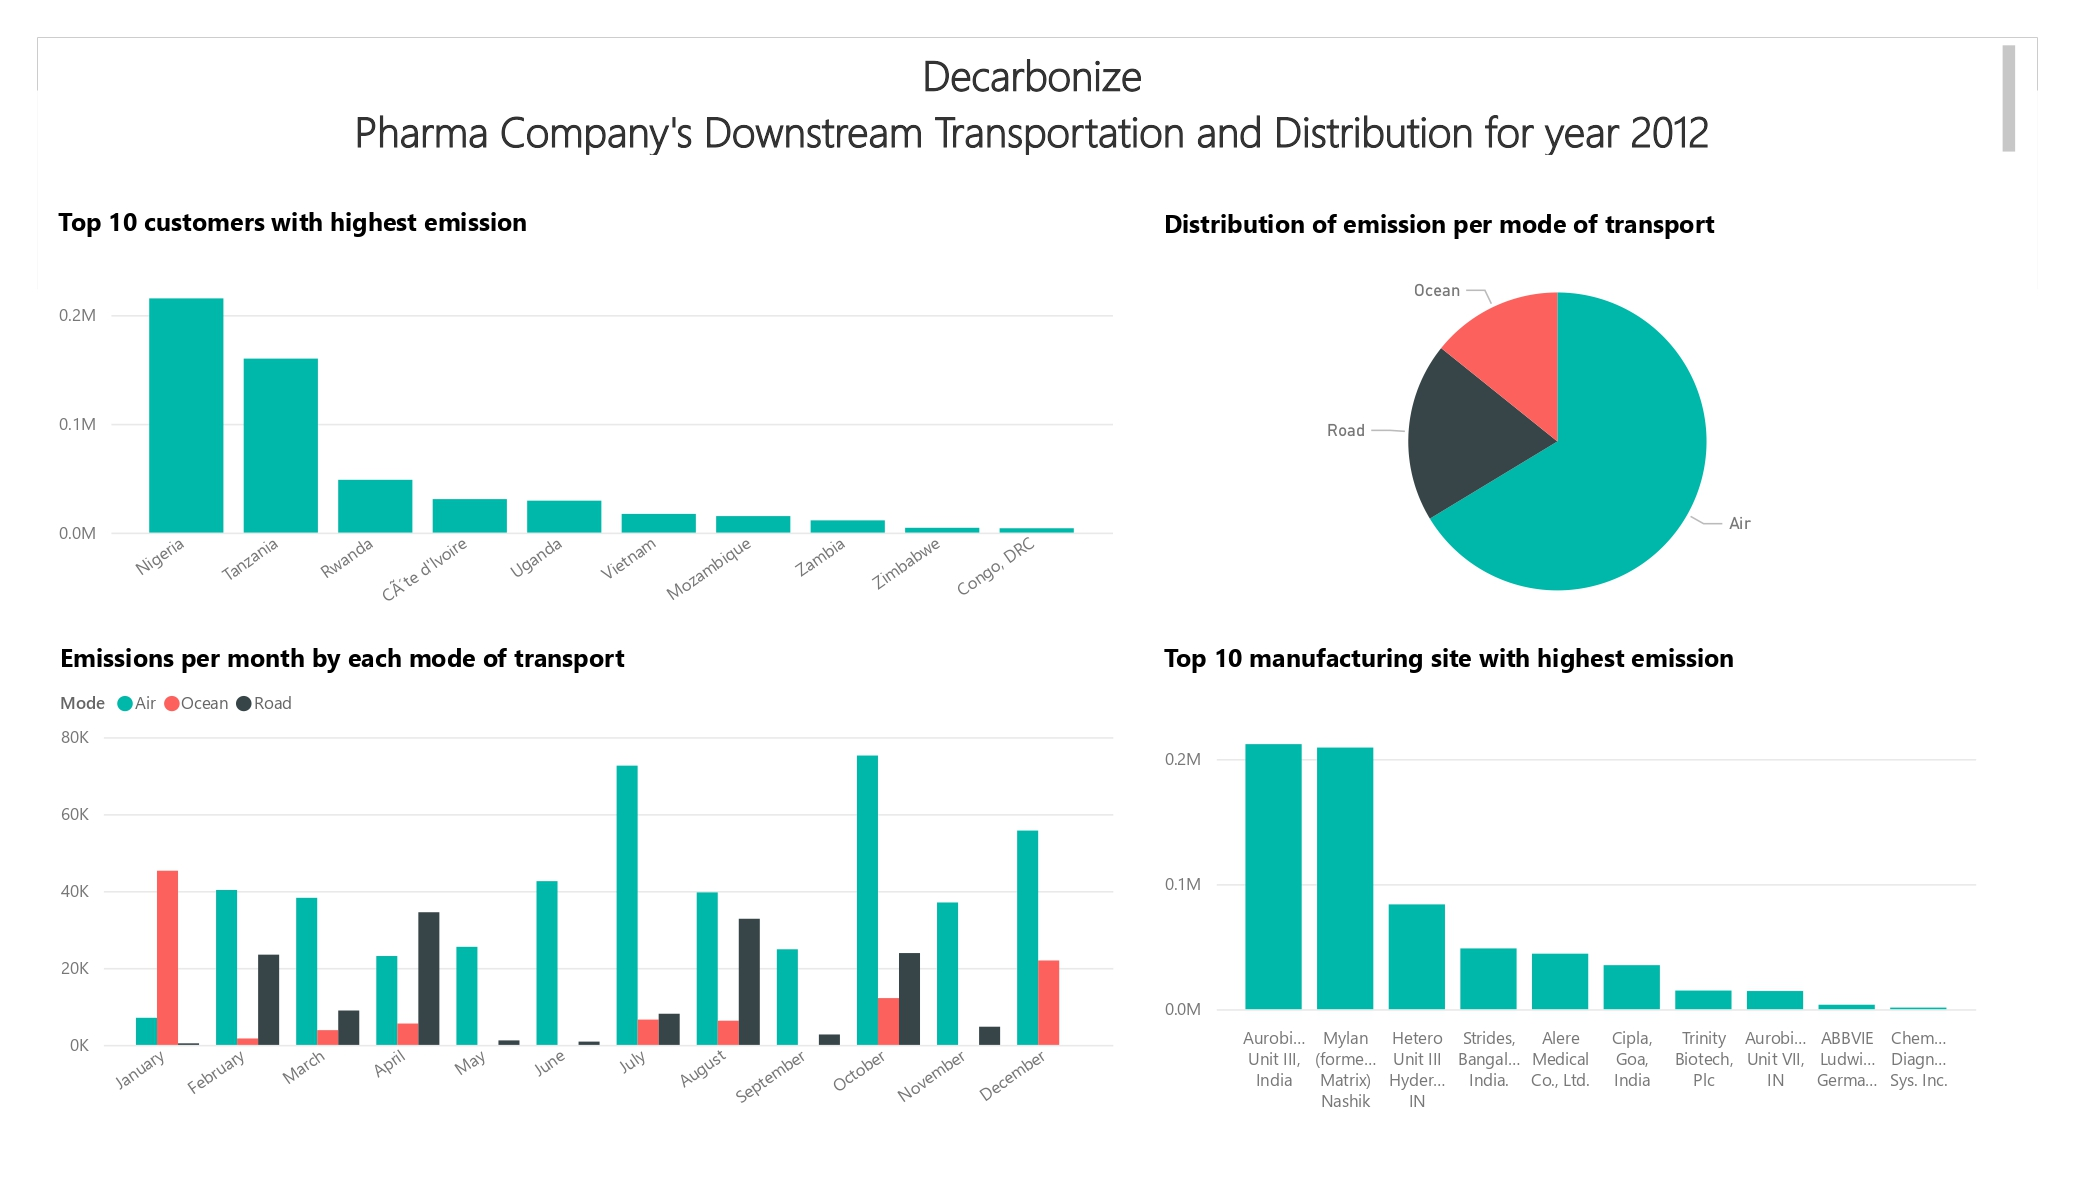

This screenshot's page, from the dashboard's own definition file:
{"tool":"powerbi","page":{"name":"Page 1","canvas":[1280,720],"ordinal":0},"visuals":[{"type":"textbox","box":[10.2,0,1260,79.9],"z":0},{"type":"columnChart","title":"Top 10 customers with highest emission","fields":{"Y":["Sum(pharma_scope3_category9_emissions.total_emissions)"],"Category":["pharma_scope3_category9_emissions.Destination_Country"]},"box":[8.9,106.8,685,268.7],"z":1000},{"type":"pieChart","title":"Distribution of emission per mode of transport","fields":{"Category":["pharma_scope3_category9_emissions.Mode"],"Y":["Sum(pharma_scope3_category9_emissions.total_emissions)"]},"box":[716.2,107.5,513.8,278.8],"z":2000},{"type":"clusteredColumnChart","title":"Emissions per month by each mode of transport","fields":{"Category":["pharma_scope3_category9_emissions.Delivery_Date.Variation.Date Hierarchy.Month"],"Y":["Sum(pharma_scope3_category9_emissions.total_emissions)"],"Series":["pharma_scope3_category9_emissions.Mode"]},"box":[10,386.2,683.8,310],"z":3000},{"type":"columnChart","title":"Top 10 manufacturing site with highest emission","fields":{"Y":["Sum(pharma_scope3_category9_emissions.total_emissions)"],"Category":["pharma_scope3_category9_emissions.Manufacturing_site"]},"box":[716.2,386.2,530,310],"z":4000}]}

Visuals, with their boxes in screenshot pixels (x1, y1, x2, y2):
textbox: [53, 38, 2022, 162]
"Top 10 customers with highest emission" columnChart: [51, 204, 1122, 624]
"Distribution of emission per mode of transport" pieChart: [1157, 205, 1959, 641]
"Emissions per month by each mode of transport" clusteredColumnChart: [53, 641, 1122, 1125]
"Top 10 manufacturing site with highest emission" columnChart: [1157, 641, 1985, 1125]
